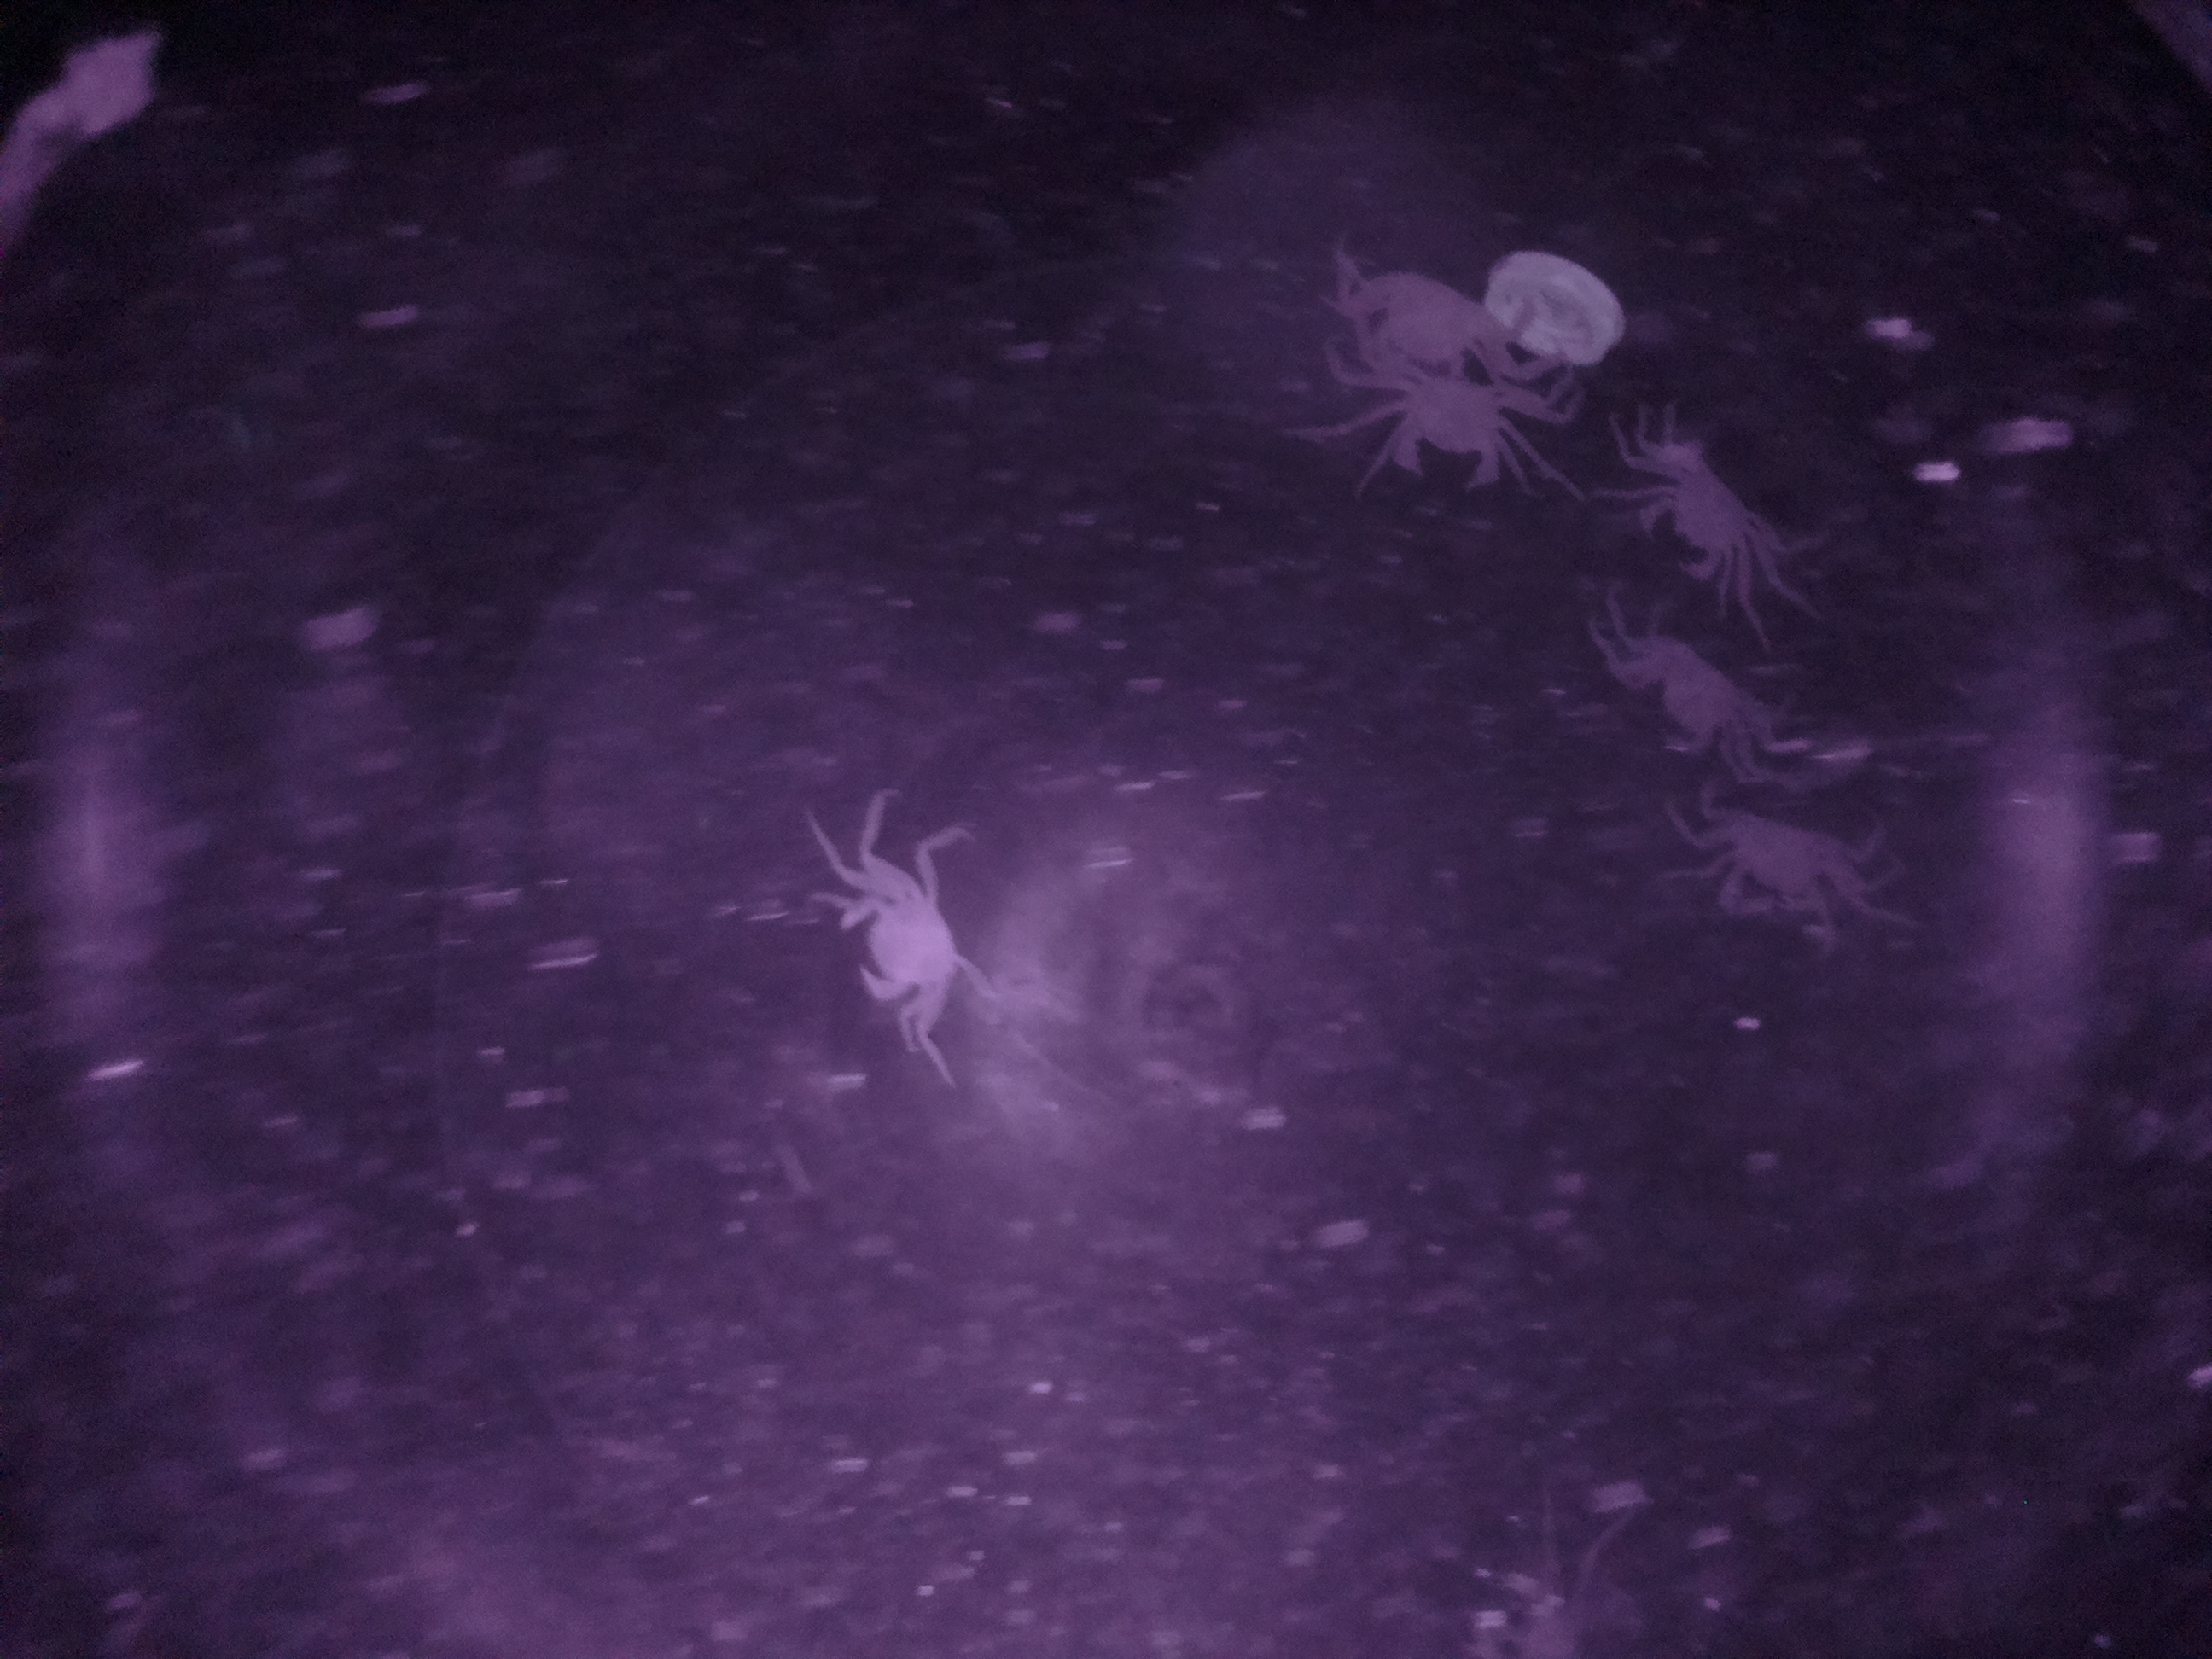Crab: (1595, 410, 1827, 612), (1658, 770, 1893, 946), (829, 829, 988, 1039), (1587, 641, 1806, 770), (1359, 361, 1547, 495)
